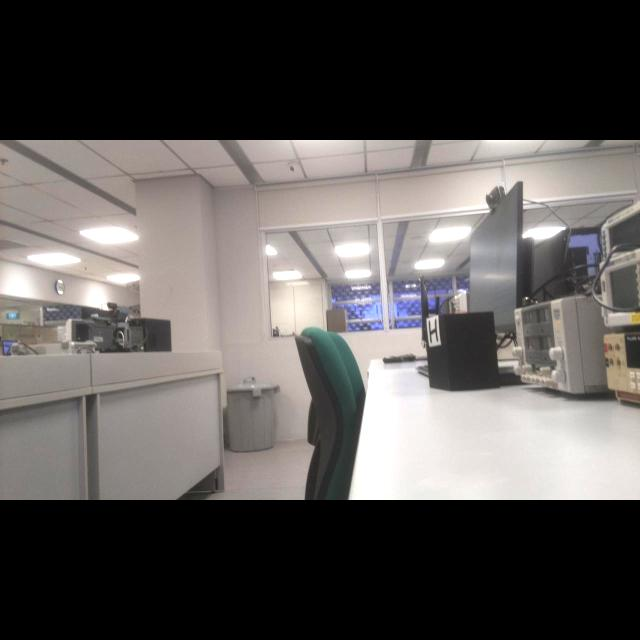H: (429, 318, 438, 343)
